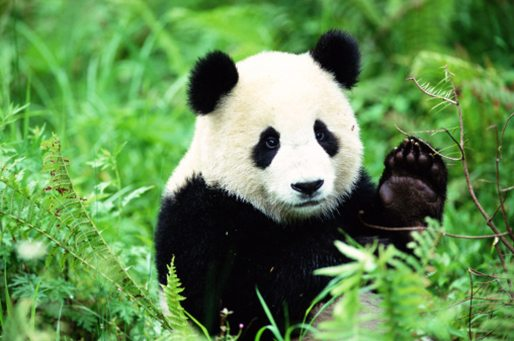panda: (159, 27, 467, 338)
